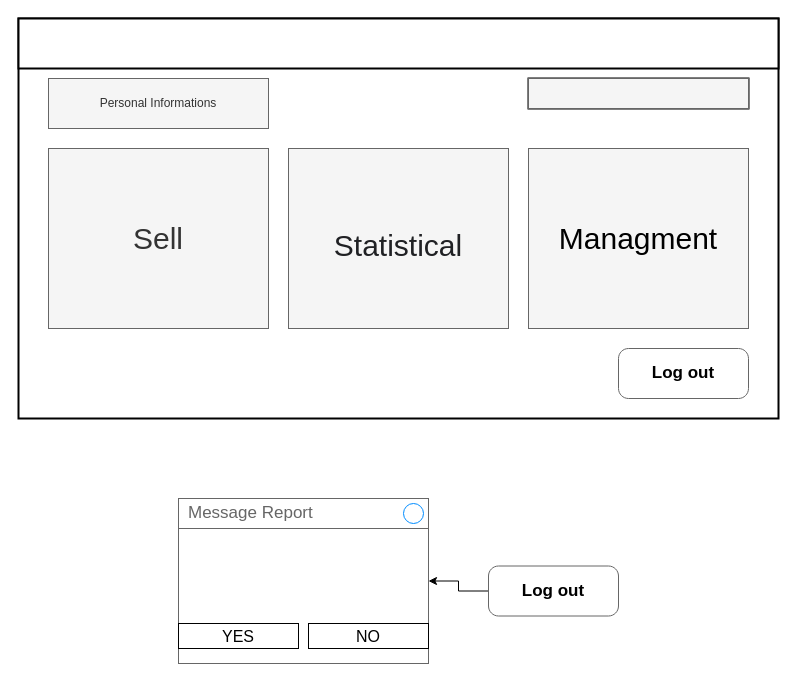
This 796x681 diagram has some shape labels left out. Here are the shapes that lost their labels. From the top down, the box of each, then its label:
(17, 17, 779, 69): Managment App
(528, 78, 748, 108): Employee Name
(178, 498, 428, 664): Confirm
